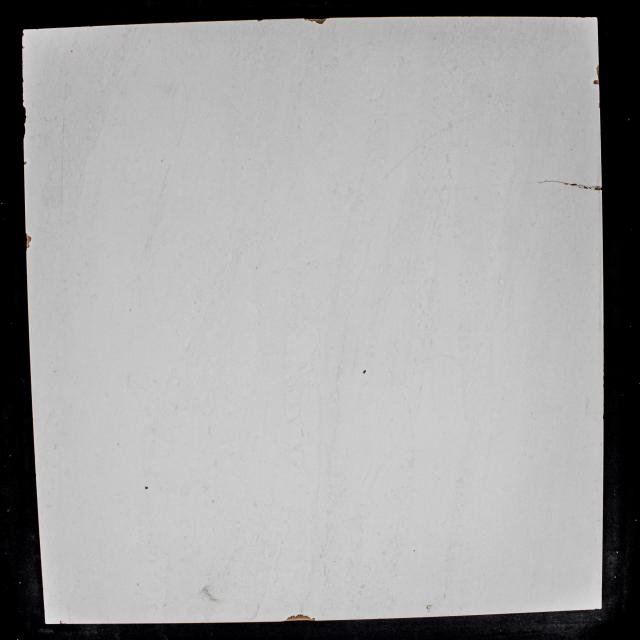edge-chipping: (314, 18, 326, 25), (25, 232, 32, 244), (23, 105, 27, 123), (286, 615, 296, 622), (296, 614, 304, 622), (304, 616, 311, 622), (596, 64, 599, 78), (24, 125, 26, 140), (593, 80, 599, 84), (26, 244, 30, 249), (257, 19, 263, 22), (59, 620, 63, 624), (304, 18, 309, 21), (24, 161, 27, 165), (22, 46, 25, 50), (312, 618, 316, 621), (310, 19, 314, 22), (22, 32, 24, 37)
hole: (362, 369, 367, 374), (144, 486, 149, 490)
line: (538, 180, 577, 187), (578, 184, 602, 191)
